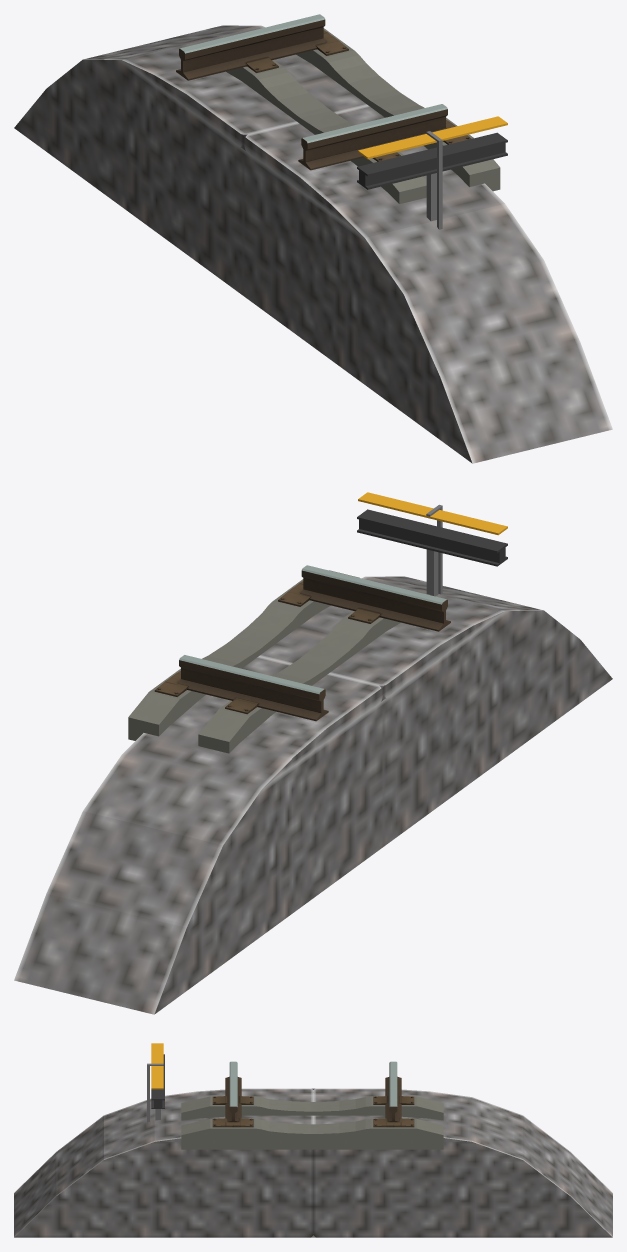
Rendered from spsf_tracks_concrete_ballast2_3rdrail_left.obj.
3 views of the same model, one above another, from view 1: azimuth 30°, elevation 25°; view 2: azimuth 150°, elevation 25°; view 3: azimuth 270°, elevation 25° (orthographic). The views are drawn at different scales.
Parts seen in each view (by area): view 1: RAIL_BASE.001_Cube.009, RAIL_BASE_Cube.001, RAIL_BASE.006_Cube_Cube.004, RAIL_BASE.004, RAIL_RIGHT_Cube.010, RAIL_LEFT_Cube.002, RAIL_BASE.005_Cube.003; view 2: RAIL_BASE.001_Cube.009, RAIL_BASE_Cube.001, RAIL_BASE.006_Cube_Cube.004, RAIL_BASE.004, RAIL_RIGHT_Cube.010, RAIL_LEFT_Cube.002, RAIL_BASE.005_Cube.003; view 3: RAIL_BASE.001_Cube.009, RAIL_BASE.006_Cube_Cube.004, RAIL_BASE_Cube.001, RAIL_BASE.005_Cube.003, RAIL_BASE.004, RAIL_LEFT_Cube.002, RAIL_RIGHT_Cube.010.
Part boxes in pixels (left/top/right/bottom): RAIL_BASE.001_Cube.009: left=14, top=25, right=612, bottom=463; RAIL_BASE_Cube.001: left=122, top=26, right=504, bottom=237; RAIL_BASE.006_Cube_Cube.004: left=226, top=28, right=500, bottom=204; RAIL_BASE.004: left=357, top=116, right=507, bottom=229; RAIL_RIGHT_Cube.010: left=176, top=14, right=326, bottom=80; RAIL_LEFT_Cube.002: left=298, top=104, right=447, bottom=170; RAIL_BASE.005_Cube.003: left=246, top=30, right=471, bottom=161; RAIL_BASE.001_Cube.009: left=14, top=576, right=612, bottom=1014; RAIL_BASE_Cube.001: left=122, top=577, right=504, bottom=788; RAIL_BASE.006_Cube_Cube.004: left=128, top=570, right=429, bottom=753; RAIL_BASE.004: left=357, top=492, right=507, bottom=596; RAIL_RIGHT_Cube.010: left=178, top=655, right=328, bottom=721; RAIL_LEFT_Cube.002: left=300, top=565, right=450, bottom=631; RAIL_BASE.005_Cube.003: left=154, top=581, right=380, bottom=714; RAIL_BASE.001_Cube.009: left=14, top=1097, right=612, bottom=1237; RAIL_BASE.006_Cube_Cube.004: left=181, top=1096, right=443, bottom=1149; RAIL_BASE_Cube.001: left=154, top=1088, right=472, bottom=1141; RAIL_BASE.005_Cube.003: left=212, top=1096, right=414, bottom=1127; RAIL_BASE.004: left=147, top=1043, right=164, bottom=1122; RAIL_LEFT_Cube.002: left=225, top=1061, right=241, bottom=1121; RAIL_RIGHT_Cube.010: left=385, top=1061, right=401, bottom=1121.
Size of the model in its own units: 1.11 by 1.58 by 5.66.
Materials: 3 (3 with a texture image).
